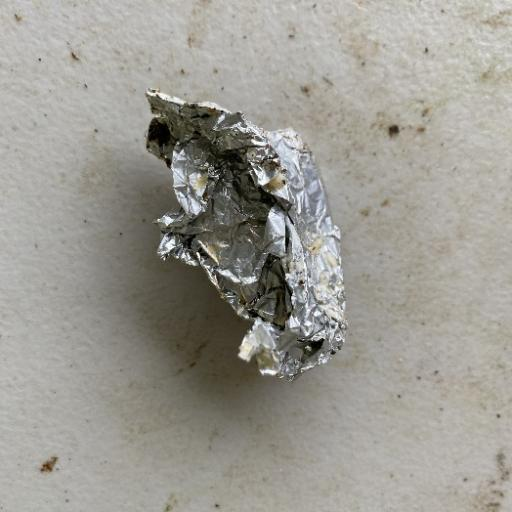Metal: (141, 85, 349, 383)
